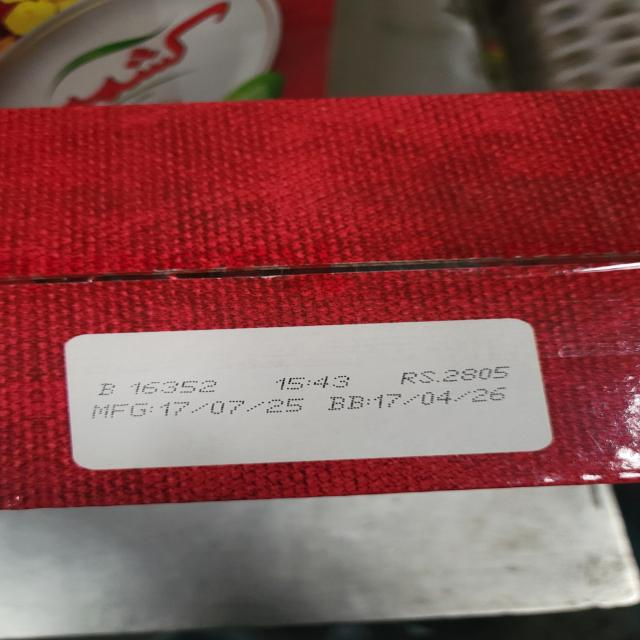BB: (332, 388, 510, 410)
Batch: (96, 380, 222, 396)
MFG: (94, 398, 304, 419)
RS: (400, 366, 517, 384)
TimeStamp: (276, 376, 352, 390)
